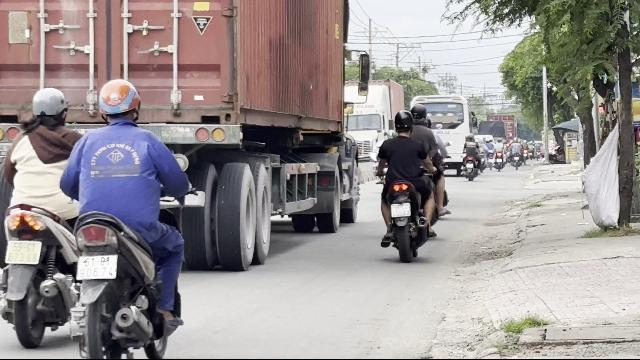helmet: (96, 78, 142, 124), (29, 86, 69, 128), (392, 110, 414, 134), (409, 104, 427, 124)
licenseplate: (76, 256, 115, 278), (6, 241, 42, 264), (390, 204, 410, 218)
motorcyclist: (62, 79, 195, 357), (0, 85, 81, 349), (374, 104, 448, 262)
